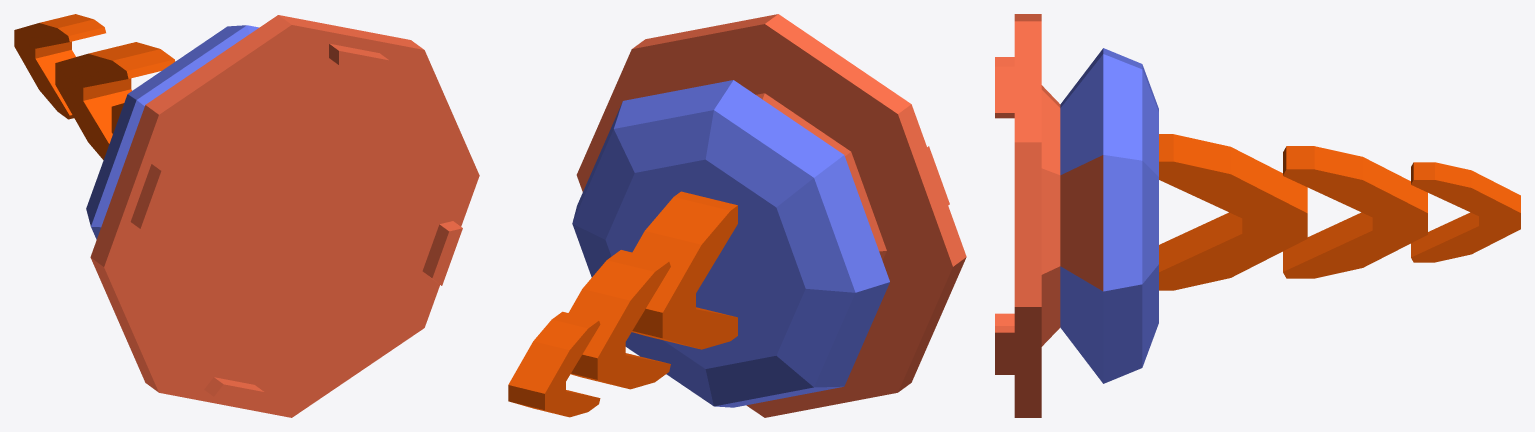
Rendered from Jump.fbx.
3 views of the same model, side by side, from view 1: azimuth 30°, elevation 25°; view 2: azimuth 150°, elevation 25°; view 3: azimuth 270°, elevation 25° (orthographic).
Parts seen in each view (by area): view 1: Jump; view 2: Jump; view 3: Jump.
Boxes of the visible parts, <box> form: Jump: <box>14,14,479,417</box>; Jump: <box>508,14,966,417</box>; Jump: <box>995,14,1520,417</box>.
Bounding box in the file's own units: 200 × 200 × 245.
